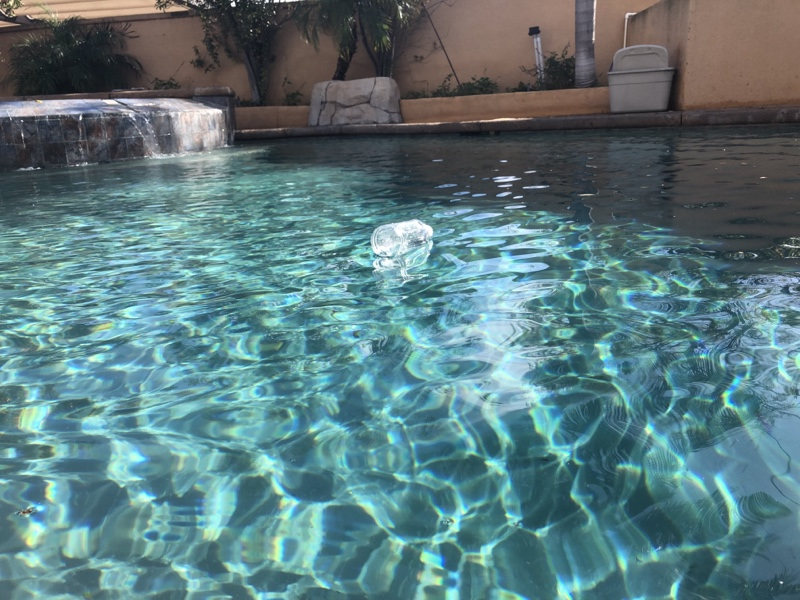Plastic Bottle: (368, 218, 439, 259)
